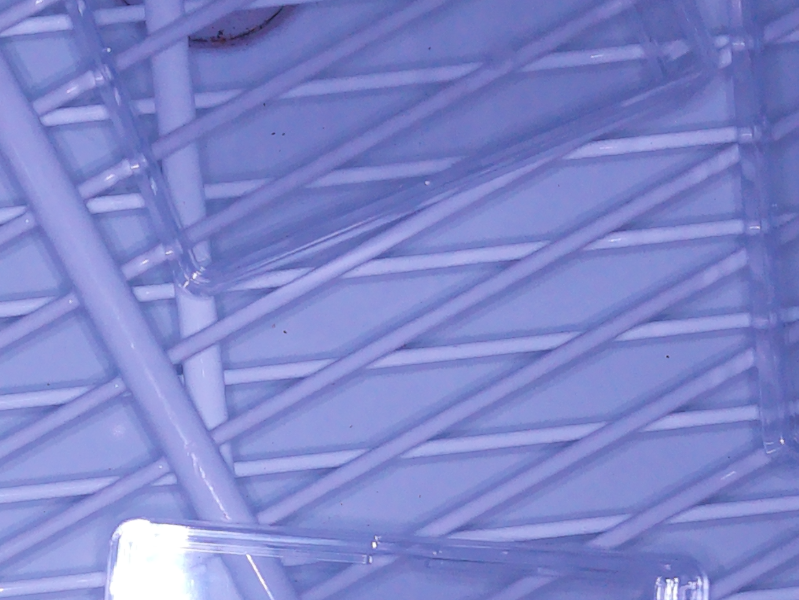plate: (59, 1, 724, 295), (103, 515, 714, 600), (737, 1, 799, 464)
